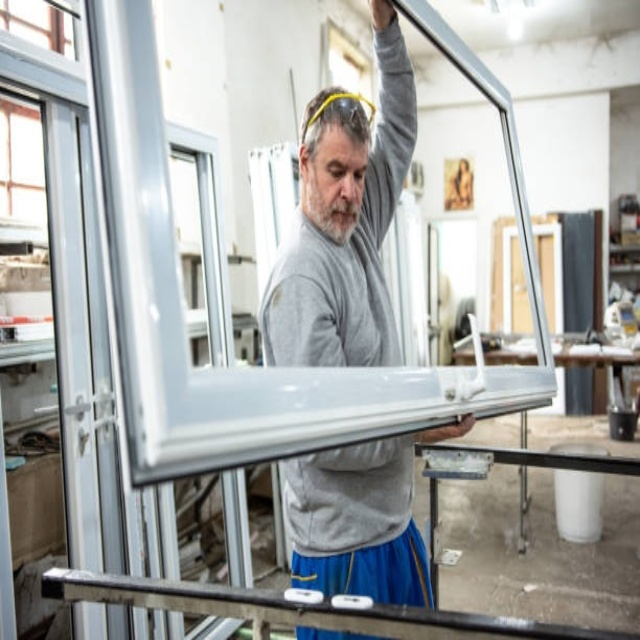Sin_gafas: (319, 152, 368, 190)
Sin_mascara: (326, 204, 360, 234)
